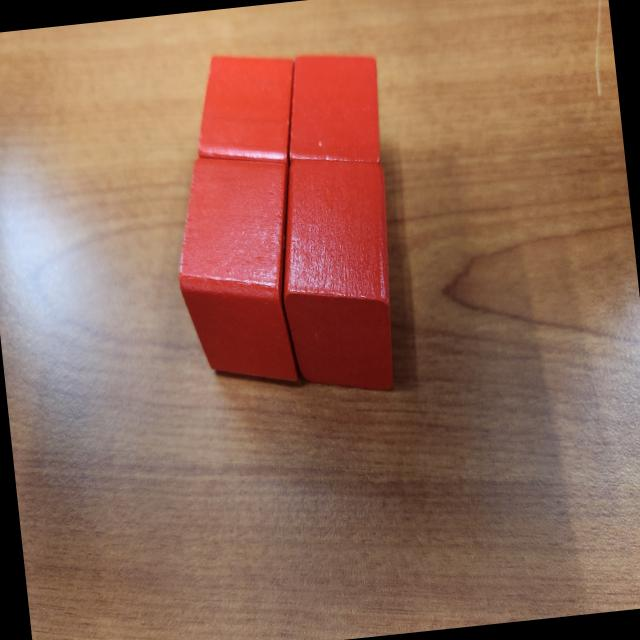red: (164, 148, 310, 396), (267, 149, 407, 401), (186, 45, 306, 186), (275, 46, 387, 174)
